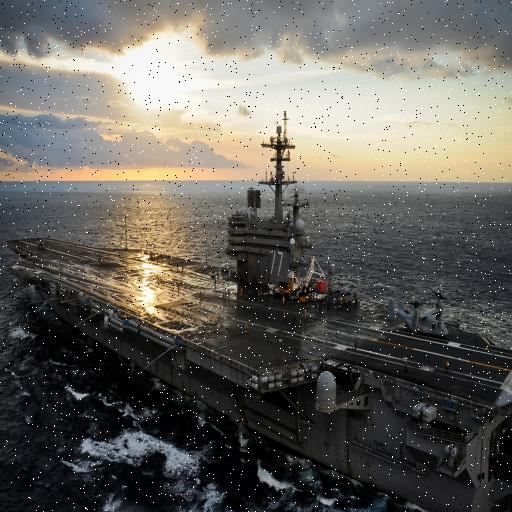Portanaves: (1, 105, 512, 512)
